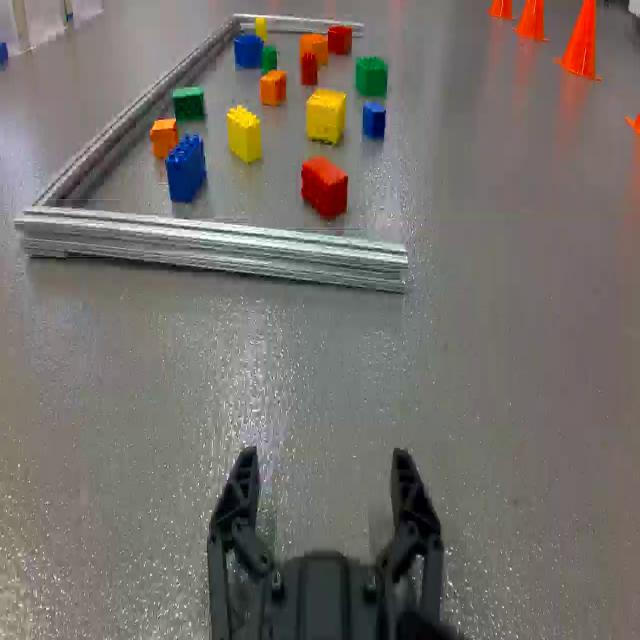block: (305, 87, 348, 149), (222, 102, 264, 164), (256, 19, 266, 41)
blue: (167, 132, 207, 204), (361, 101, 387, 142), (235, 33, 263, 70)
cone: (556, 1, 602, 84), (513, 1, 548, 40), (622, 103, 640, 142), (487, 0, 516, 20)
green: (354, 57, 390, 98), (172, 88, 206, 123)
metal barrier: (12, 12, 406, 298)
orange: (258, 71, 291, 108), (150, 117, 177, 159), (298, 36, 328, 64)
red goal: (299, 155, 349, 224), (328, 27, 354, 56), (300, 52, 318, 84)
